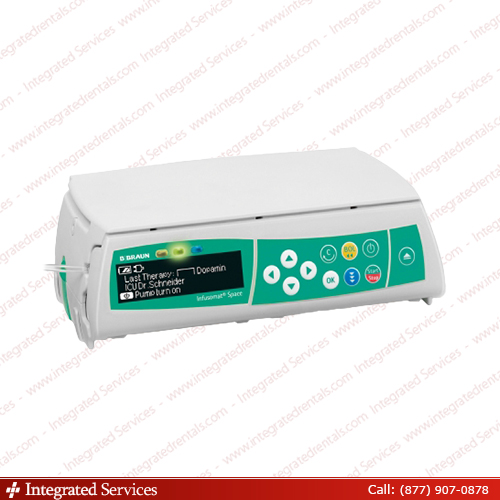BBraun Infusomat Space: (56, 147, 451, 353)
